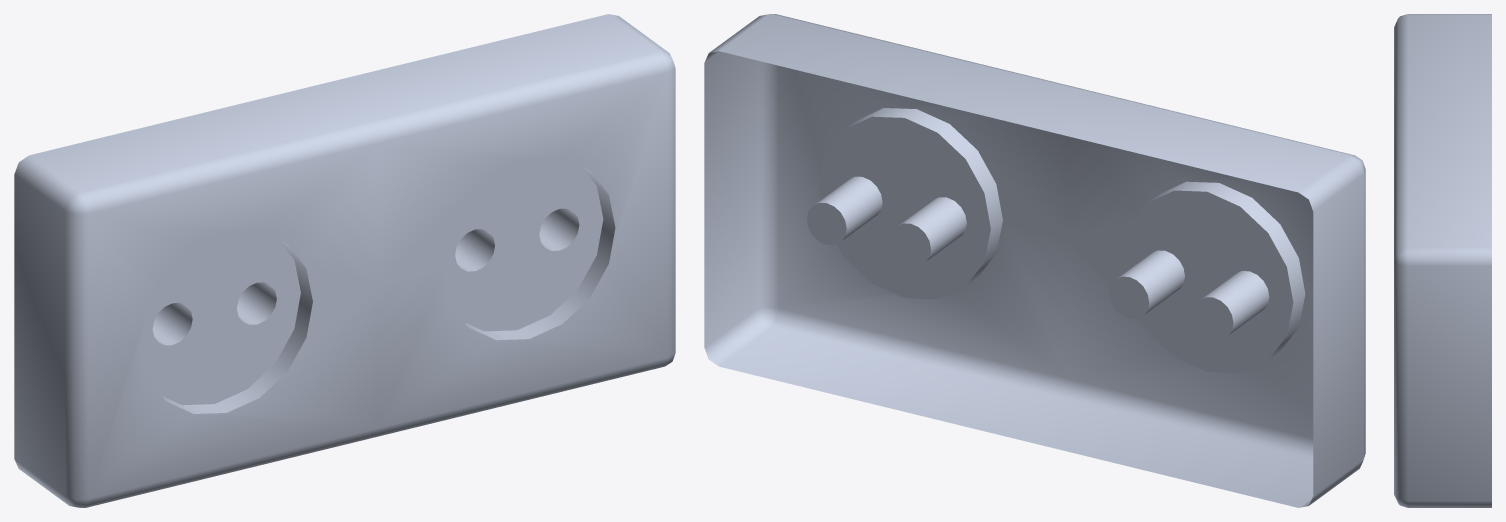
Rendered from sockets.fbx.
3 renders of one model, left to right at view 1: azimuth 30°, elevation 25°; view 2: azimuth 150°, elevation 25°; view 3: azimuth 270°, elevation 25°, orthographic. The views are drawn at different scales.
Visible parts, largest first — view 1: sockets; view 2: sockets; view 3: sockets.
Part boxes in pixels (x1,y1,x2,y2): sockets: [14, 14, 675, 507]; sockets: [704, 14, 1365, 507]; sockets: [1394, 14, 1491, 507].
Size of the model in its own units: 0.1154 by 0.0571 by 0.0195.
